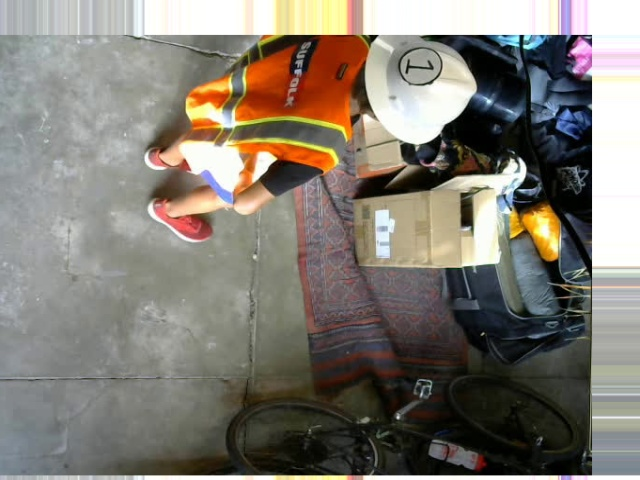one: (399, 47, 441, 85)
